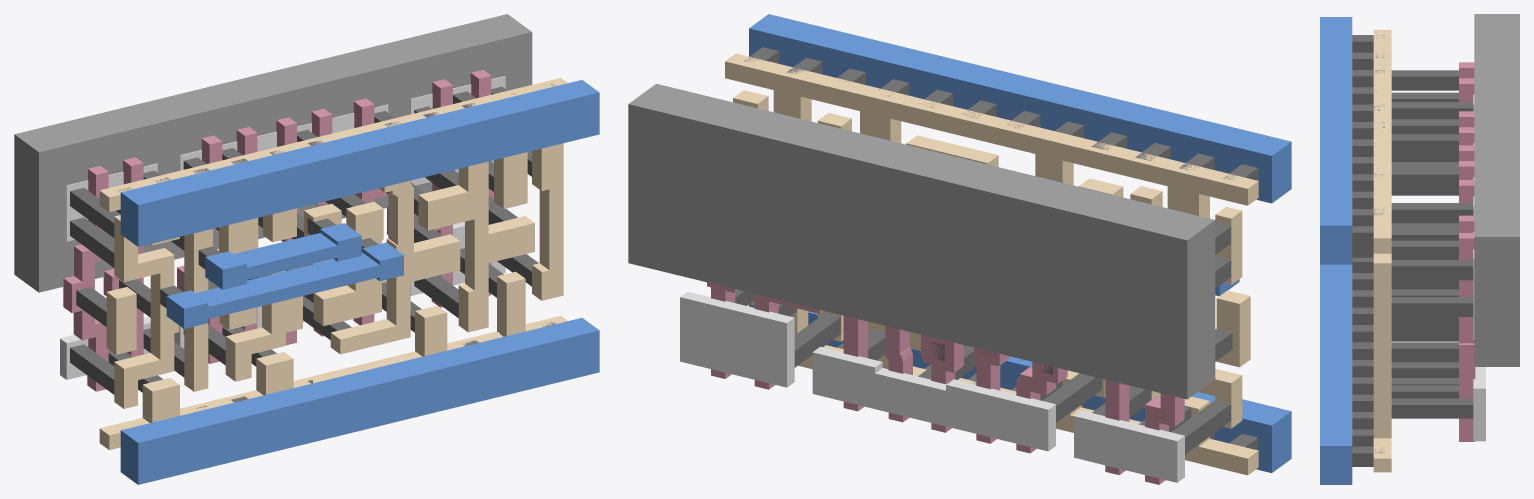
File: sky130_fd_sc_hd__dlxtn_1.gds.gltf
The picture shows the model from 3 angles, left to right: view 1: azimuth 30°, elevation 25°; view 2: azimuth 150°, elevation 25°; view 3: azimuth 270°, elevation 25°; orthographic projection. The views are drawn at different scales.
Visible parts, largest first — view 1: sky130_fd_sc_hd__dlxtn_1_met1, sky130_fd_sc_hd__dlxtn_1_li1, sky130_fd_sc_hd__dlxtn_1_nwell, sky130_fd_sc_hd__dlxtn_1_licon, sky130_fd_sc_hd__dlxtn_1_poly, sky130_fd_sc_hd__dlxtn_1_diff, sky130_fd_sc_hd__dlxtn_1_mcon; view 2: sky130_fd_sc_hd__dlxtn_1_nwell, sky130_fd_sc_hd__dlxtn_1_li1, sky130_fd_sc_hd__dlxtn_1_met1, sky130_fd_sc_hd__dlxtn_1_diff, sky130_fd_sc_hd__dlxtn_1_poly, sky130_fd_sc_hd__dlxtn_1_licon, sky130_fd_sc_hd__dlxtn_1_mcon; view 3: sky130_fd_sc_hd__dlxtn_1_licon, sky130_fd_sc_hd__dlxtn_1_nwell, sky130_fd_sc_hd__dlxtn_1_met1, sky130_fd_sc_hd__dlxtn_1_mcon, sky130_fd_sc_hd__dlxtn_1_li1, sky130_fd_sc_hd__dlxtn_1_poly, sky130_fd_sc_hd__dlxtn_1_diff.
Part boxes in pixels (x1=…): sky130_fd_sc_hd__dlxtn_1_met1: x1=120, y1=80, x2=599, y2=484; sky130_fd_sc_hd__dlxtn_1_li1: x1=99, y1=78, x2=567, y2=450; sky130_fd_sc_hd__dlxtn_1_nwell: x1=14, y1=14, x2=532, y2=292; sky130_fd_sc_hd__dlxtn_1_licon: x1=70, y1=86, x2=538, y2=394; sky130_fd_sc_hd__dlxtn_1_poly: x1=63, y1=70, x2=493, y2=391; sky130_fd_sc_hd__dlxtn_1_diff: x1=60, y1=76, x2=505, y2=379; sky130_fd_sc_hd__dlxtn_1_mcon: x1=116, y1=84, x2=555, y2=408; sky130_fd_sc_hd__dlxtn_1_nwell: x1=628, y1=83, x2=1215, y2=399; sky130_fd_sc_hd__dlxtn_1_li1: x1=725, y1=53, x2=1258, y2=475; sky130_fd_sc_hd__dlxtn_1_met1: x1=749, y1=14, x2=1291, y2=472; sky130_fd_sc_hd__dlxtn_1_diff: x1=680, y1=291, x2=1184, y2=482; sky130_fd_sc_hd__dlxtn_1_poly: x1=707, y1=282, x2=1184, y2=484; sky130_fd_sc_hd__dlxtn_1_licon: x1=735, y1=113, x2=1232, y2=454; sky130_fd_sc_hd__dlxtn_1_mcon: x1=744, y1=47, x2=1258, y2=450; sky130_fd_sc_hd__dlxtn_1_licon: x1=1391, y1=70, x2=1473, y2=418; sky130_fd_sc_hd__dlxtn_1_nwell: x1=1474, y1=14, x2=1519, y2=366; sky130_fd_sc_hd__dlxtn_1_met1: x1=1320, y1=17, x2=1352, y2=484; sky130_fd_sc_hd__dlxtn_1_mcon: x1=1352, y1=35, x2=1384, y2=466; sky130_fd_sc_hd__dlxtn_1_li1: x1=1373, y1=29, x2=1391, y2=472; sky130_fd_sc_hd__dlxtn_1_poly: x1=1459, y1=62, x2=1475, y2=441; sky130_fd_sc_hd__dlxtn_1_diff: x1=1473, y1=94, x2=1485, y2=441.
Bounding box in the file's own units: 5.9 × 3.2 × 2.24.
